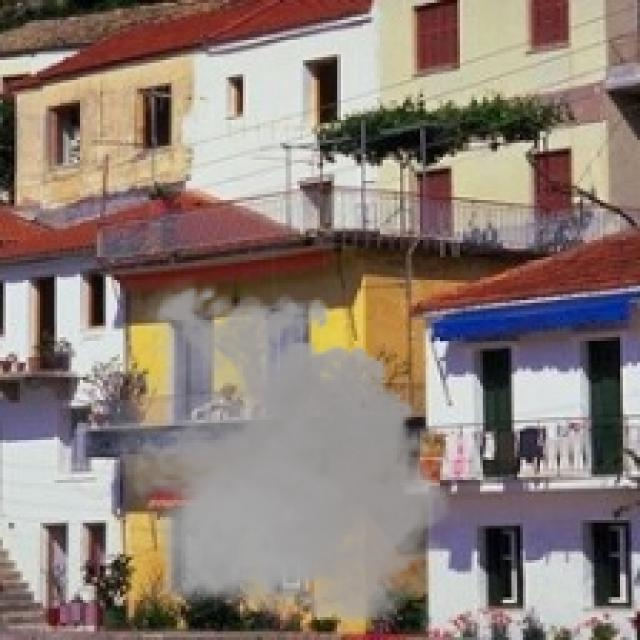Smoke: (97, 274, 463, 637)
